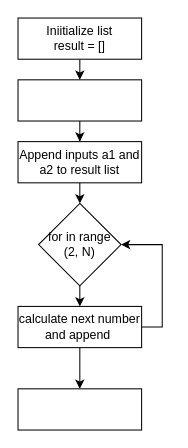
The diagram is 188 pixels wide and 448 high, and some of its shapes have lost their labels. Each missing label, with the box of its shape:
print sequence: (17, 388, 142, 430)
User inputs a1, a2, N: (17, 79, 142, 121)
